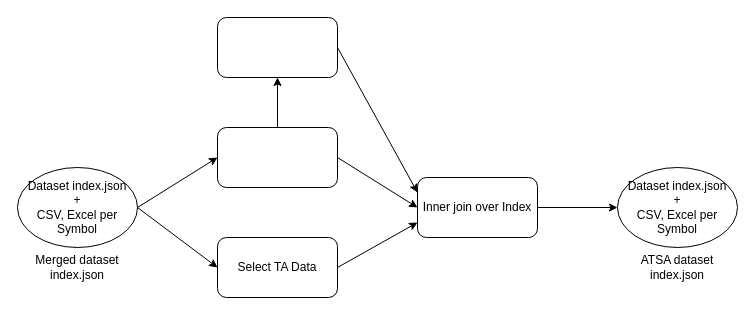
Some shapes in this 755 by 315 pixel diagram are drawn without their labels. The shapes that lost their labels are listed below. From the top down, each one's box as (x1, y1, x2, y2) in pixels, then its label:
(216, 16, 338, 78): Add Lag with W=10
(216, 126, 338, 188): Select OHLC Data
